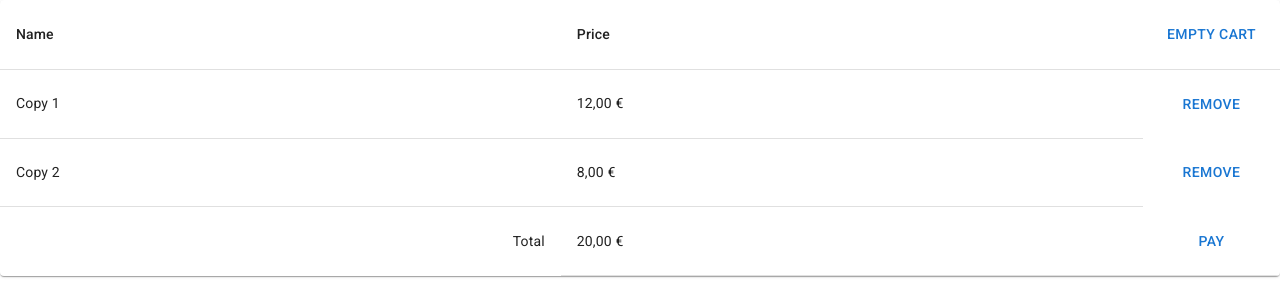
Scenario: ShoppingCartTable › empties the cart and resets the total
The width and height of the screenshot is (1280, 295).
Click the button "Empty Cart": [1211, 34] box [1159,16,1264,52]
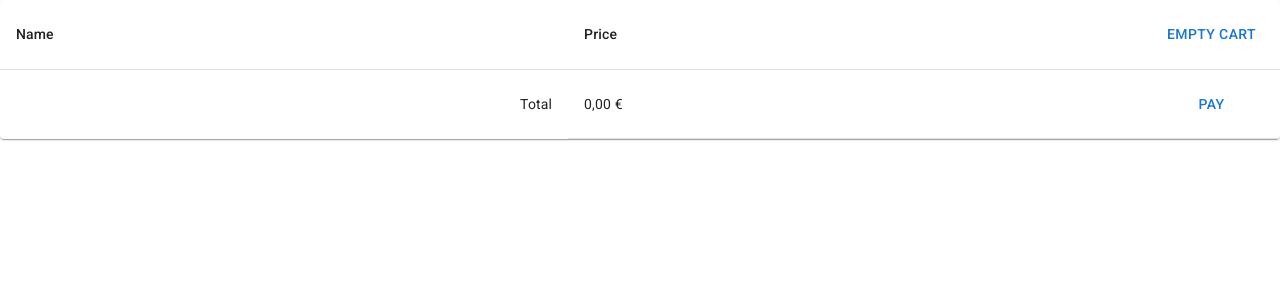
Expected: the text "0,00 €" is shown, [568,69,1143,138]
Expected: the text "Copy 1" is gone
Expected: the text "Copy 2" is gone
